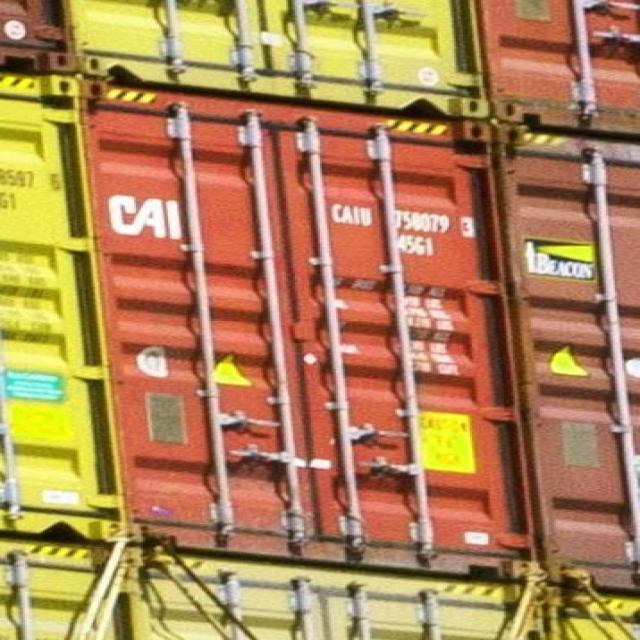ISO: (395, 236, 438, 259)
container_number: (334, 201, 478, 238)
